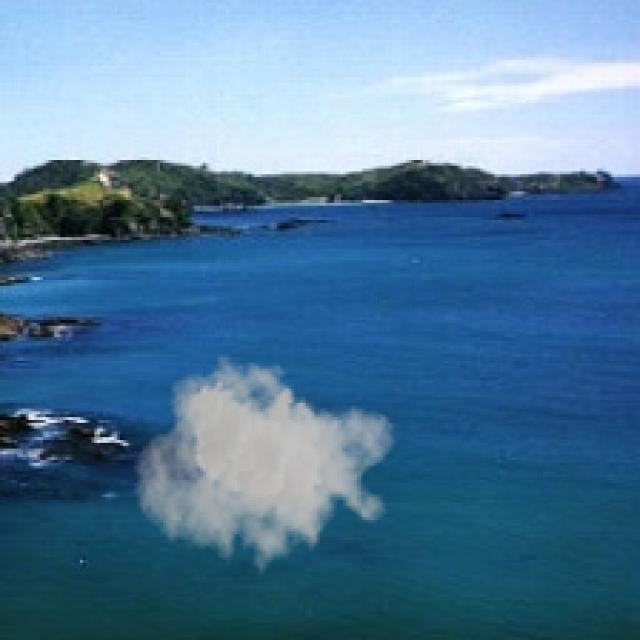smoke: (134, 354, 397, 586)
